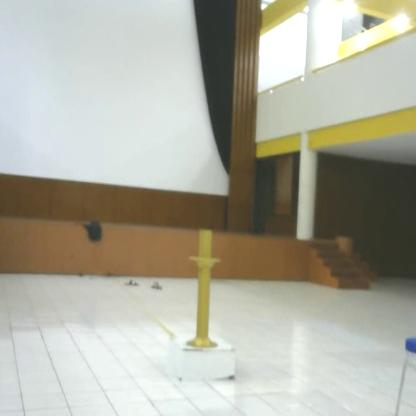pole: (186, 231, 223, 356)
